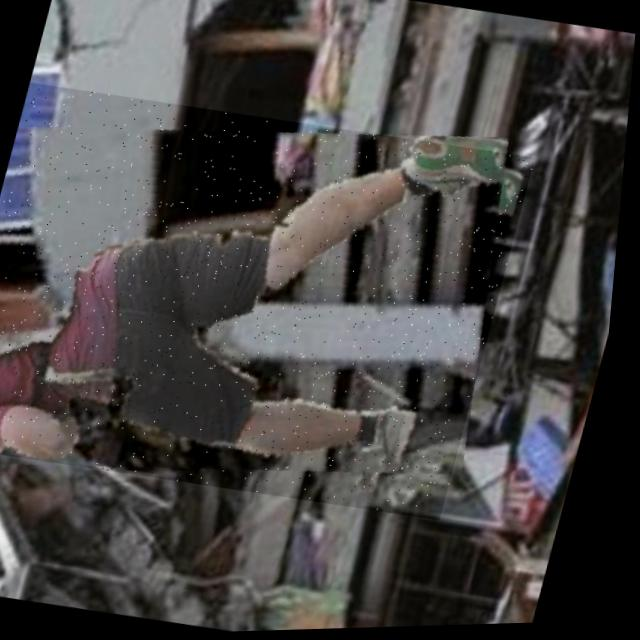Person in Rubble: (0, 69, 544, 533)
